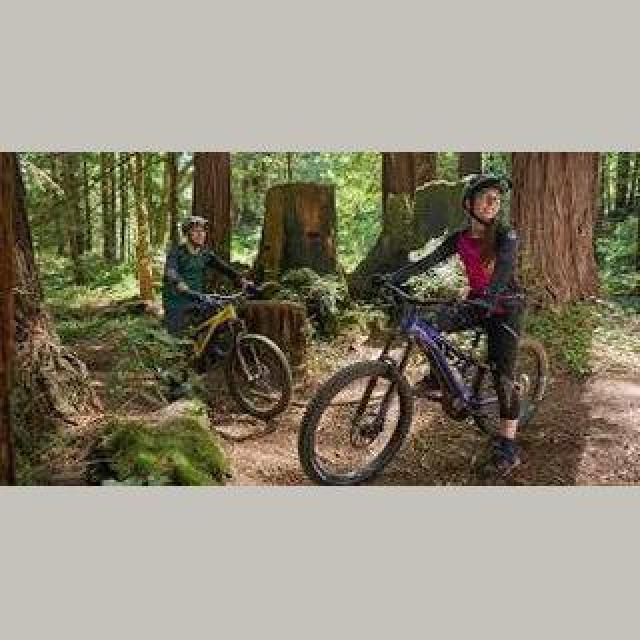MC-Bike: (408, 174, 528, 450), (162, 216, 252, 338)
Person: (296, 288, 548, 486), (142, 284, 294, 416)
